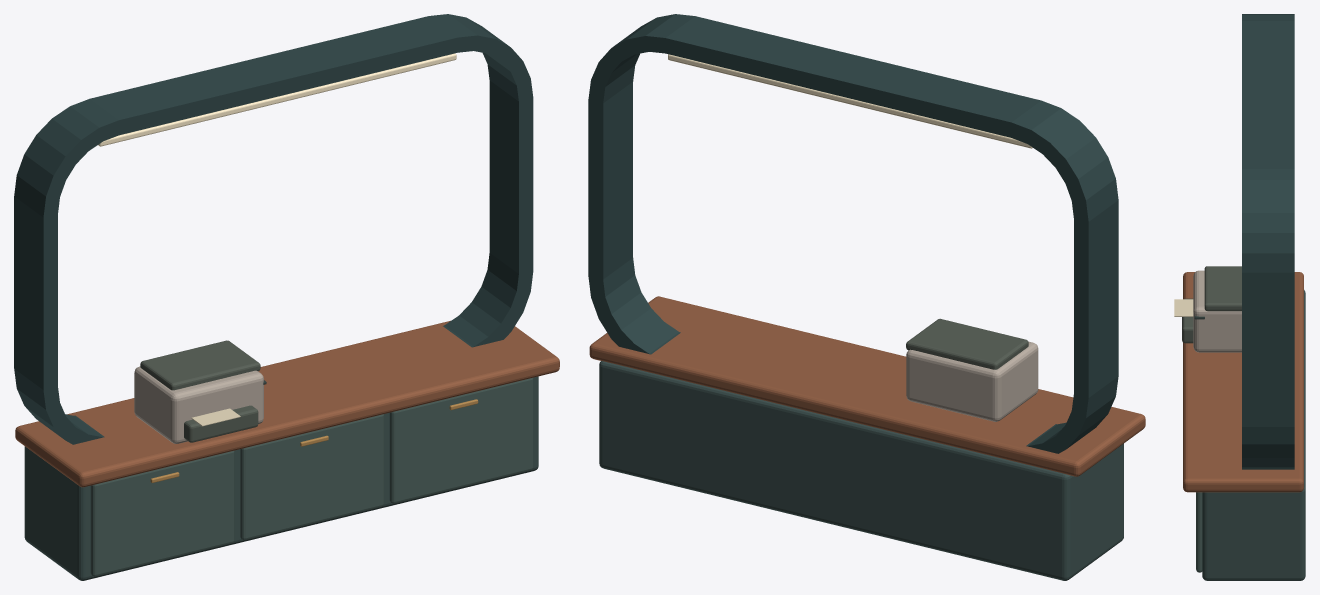
The model's file is copy_alcove.glb.
3 renders of one model, left to right at view 1: azimuth 30°, elevation 25°; view 2: azimuth 150°, elevation 25°; view 3: azimuth 270°, elevation 25°, orthographic. The views are drawn at different scales.
Parts seen in each view (by area): view 1: Rolled metal alcove surround, Washable oak counter, Overlay door, Overlay door.002, Overlay door.001, Recessed cabinet, Printer main body, Document feeder, Undershelf diffuser, Matte output tray; view 2: Recessed cabinet, Rolled metal alcove surround, Washable oak counter, Printer main body, Document feeder, Undershelf diffuser; view 3: Rolled metal alcove surround, Washable oak counter, Recessed cabinet, Printer main body, Document feeder, Overlay door.002, Copy in output tray, Matte output tray.
Part boxes in pixels (bbox=[...]): Rolled metal alcove surround: bbox=[14, 14, 533, 444]; Washable oak counter: bbox=[15, 320, 559, 487]; Overlay door: bbox=[90, 451, 234, 576]; Overlay door.002: bbox=[389, 378, 533, 503]; Overlay door.001: bbox=[240, 414, 383, 540]; Recessed cabinet: bbox=[24, 376, 538, 580]; Printer main body: bbox=[134, 366, 263, 443]; Document feeder: bbox=[140, 340, 260, 390]; Undershelf diffuser: bbox=[98, 53, 456, 146]; Matte output tray: bbox=[184, 405, 258, 442]; Recessed cabinet: bbox=[599, 361, 1123, 580]; Rolled metal alcove surround: bbox=[588, 14, 1118, 453]; Washable oak counter: bbox=[589, 296, 1145, 476]; Printer main body: bbox=[906, 341, 1038, 421]; Document feeder: bbox=[906, 318, 1028, 369]; Undershelf diffuser: bbox=[668, 54, 1032, 148]; Rolled metal alcove surround: bbox=[1242, 14, 1294, 469]; Washable oak counter: bbox=[1183, 272, 1303, 492]; Recessed cabinet: bbox=[1202, 290, 1305, 580]; Printer main body: bbox=[1193, 270, 1241, 352]; Document feeder: bbox=[1204, 266, 1241, 311]; Overlay door.002: bbox=[1196, 492, 1202, 572]; Copy in output tray: bbox=[1174, 299, 1193, 316]; Matte output tray: bbox=[1182, 298, 1193, 343].
Bounding box in the file's own units: 3.18 × 2.68 × 0.825.
